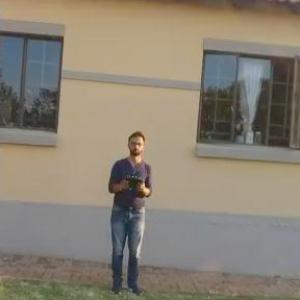follow: (100, 127, 154, 297)
